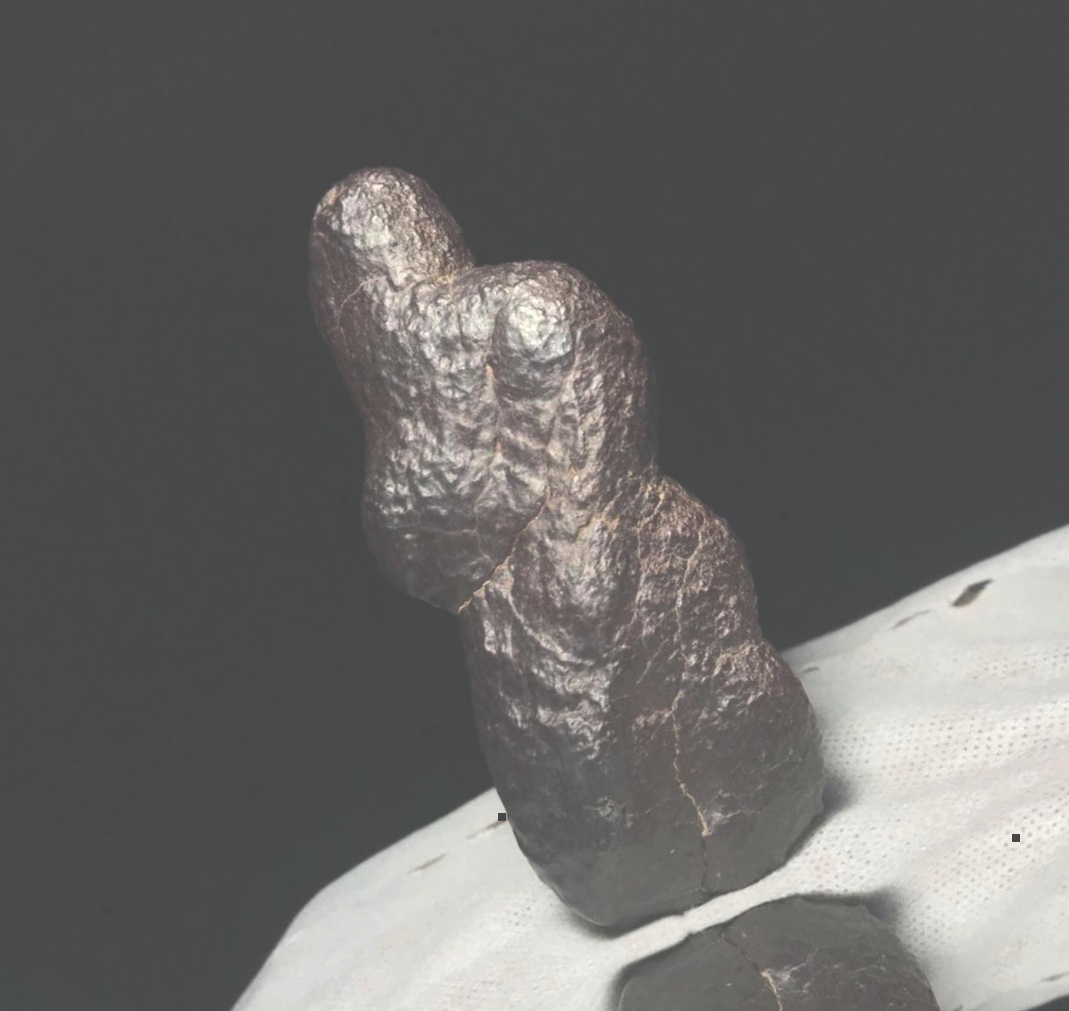halobolite: (177, 43, 930, 1000)
